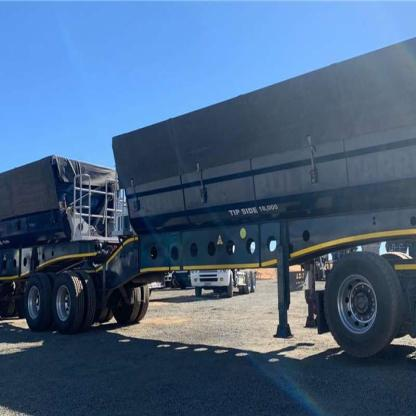dump_truck: (3, 42, 416, 372)
